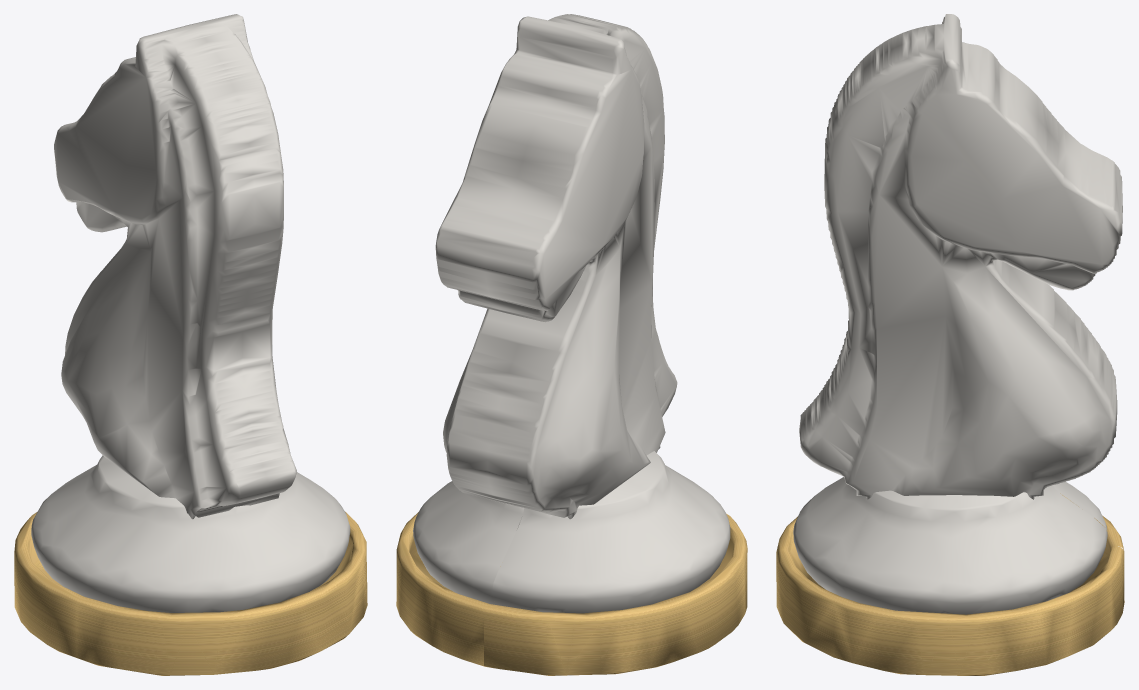
Rendered from knight-white.glb.
3 renders of one model, left to right at view 1: azimuth 30°, elevation 25°; view 2: azimuth 150°, elevation 25°; view 3: azimuth 270°, elevation 25°, orthographic.
Visible parts, largest first — view 1: Aurum Ivoire – Knight; view 2: Aurum Ivoire – Knight; view 3: Aurum Ivoire – Knight.
Part boxes in pixels (x1=…): Aurum Ivoire – Knight: x1=14, y1=14, x2=367, y2=675; Aurum Ivoire – Knight: x1=396, y1=14, x2=747, y2=675; Aurum Ivoire – Knight: x1=776, y1=14, x2=1124, y2=675.
Size of the model in its own units: 0.6873 by 1.24 by 0.6881.
2 materials, 1 textured.
